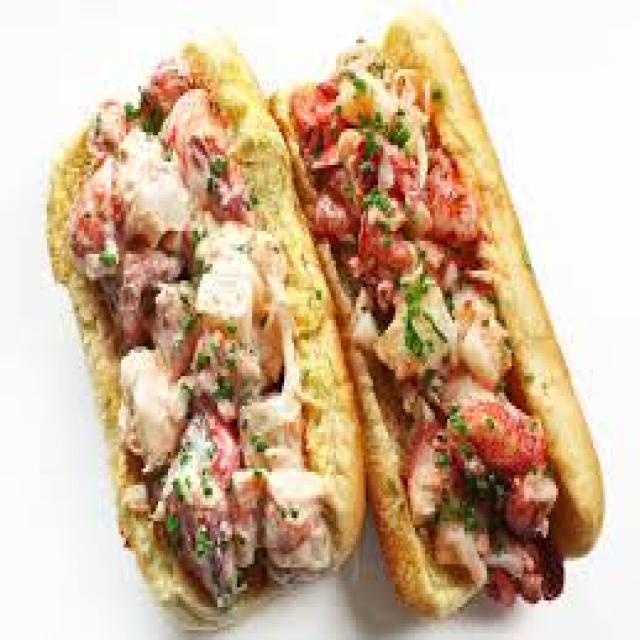Organik: (270, 4, 607, 611), (45, 33, 352, 611)
